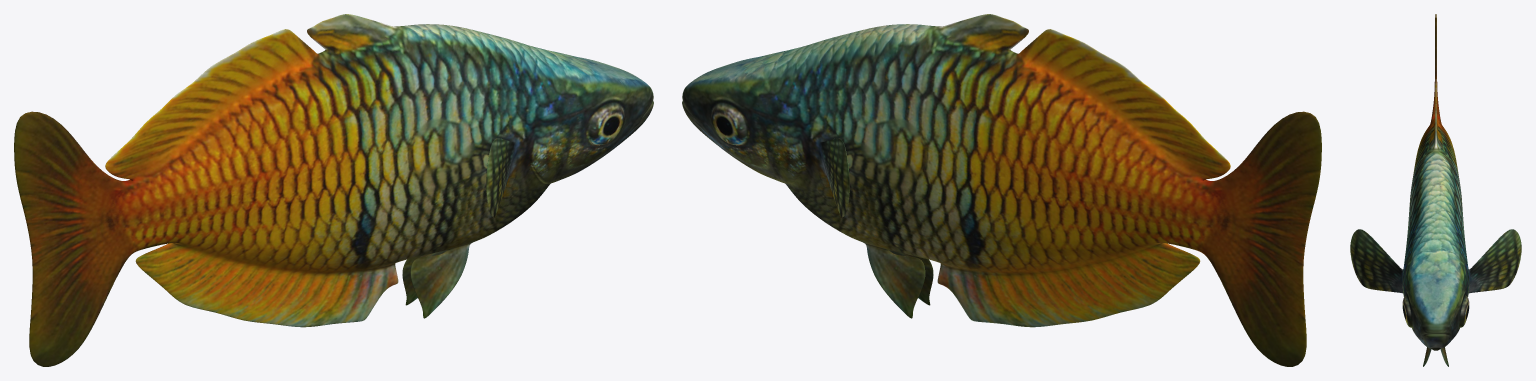
Rendered from fish4.glb.
3 views of the same model, side by side, from view 1: azimuth 30°, elevation 25°; view 2: azimuth 150°, elevation 25°; view 3: azimuth 270°, elevation 25° (orthographic). The views are drawn at different scales.
Visible parts, largest first — view 1: 12999_Boesemani_Rainbow_v1_l2; view 2: 12999_Boesemani_Rainbow_v1_l2; view 3: 12999_Boesemani_Rainbow_v1_l2.
Boxes of the visible parts, bbox=[...] form: 12999_Boesemani_Rainbow_v1_l2: bbox=[14, 14, 653, 366]; 12999_Boesemani_Rainbow_v1_l2: bbox=[682, 14, 1321, 366]; 12999_Boesemani_Rainbow_v1_l2: bbox=[1350, 14, 1521, 366].
Bounding box in the file's own units: 10.98 × 5.2 × 3.51.
Materials: 1 (1 with a texture image).
